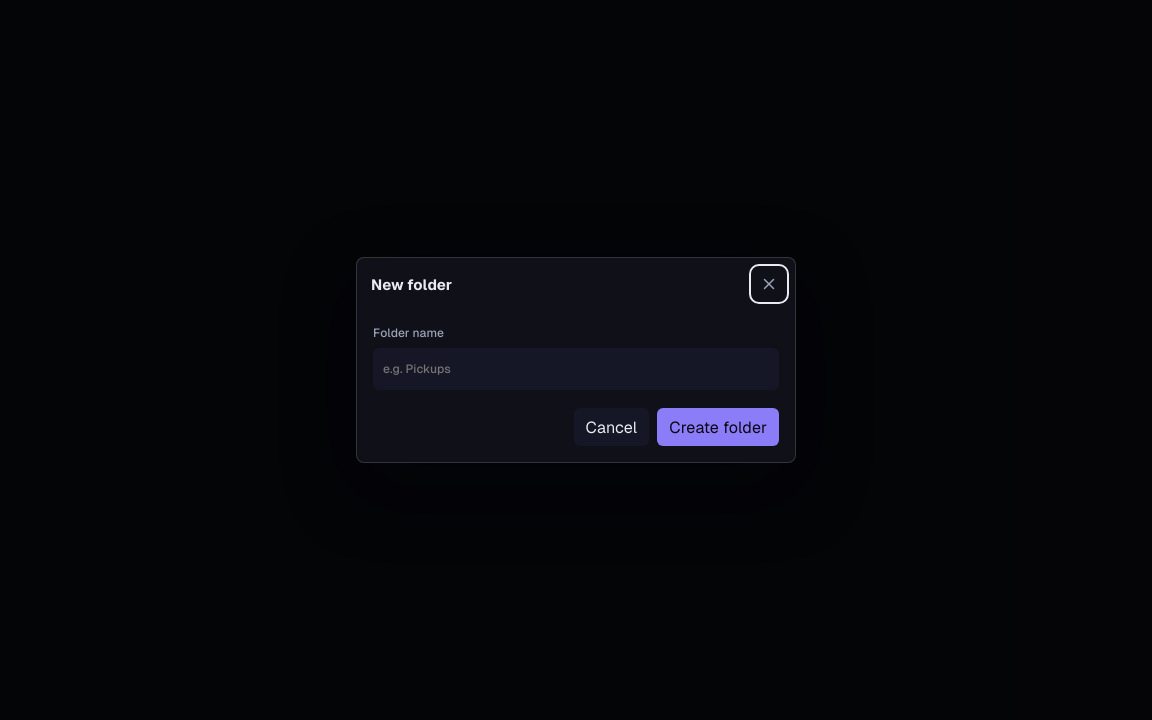
Test: project editor dialogs › validates a folder inside its project
The width and height of the screenshot is (1152, 720).
Type " finals " into the field labelled "Folder name" at (576, 369), box [373,348,779,390]
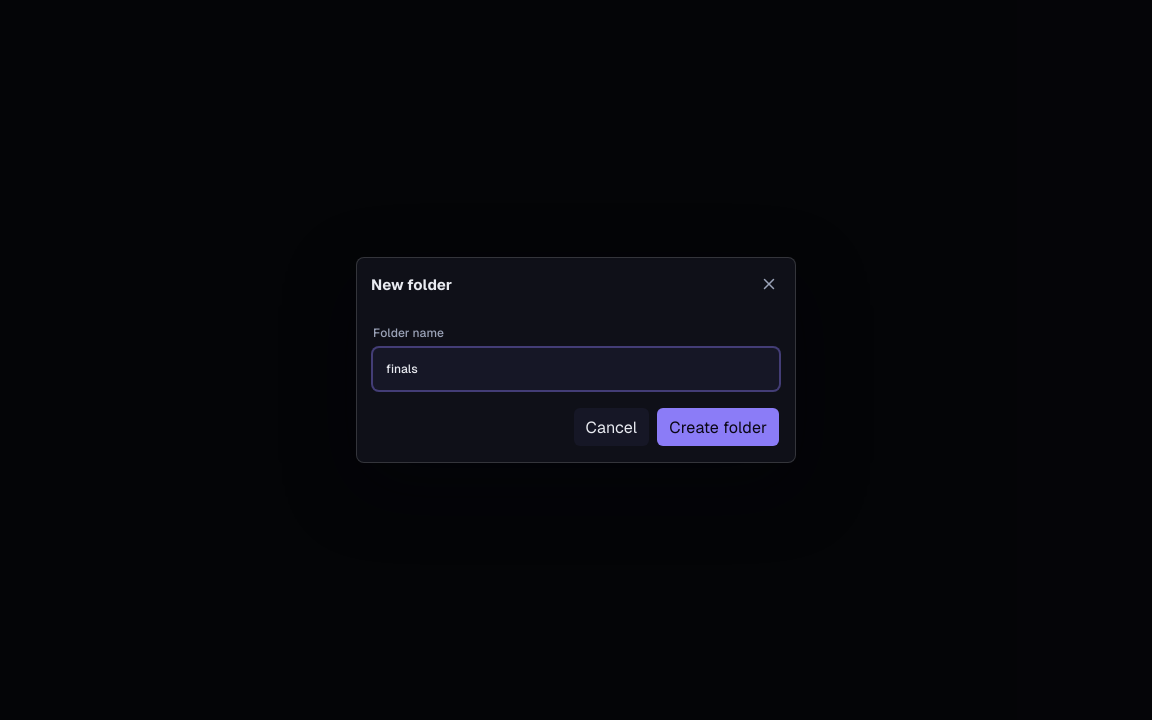
Click the button "Create folder" at (718, 427), box [657,408,779,446]
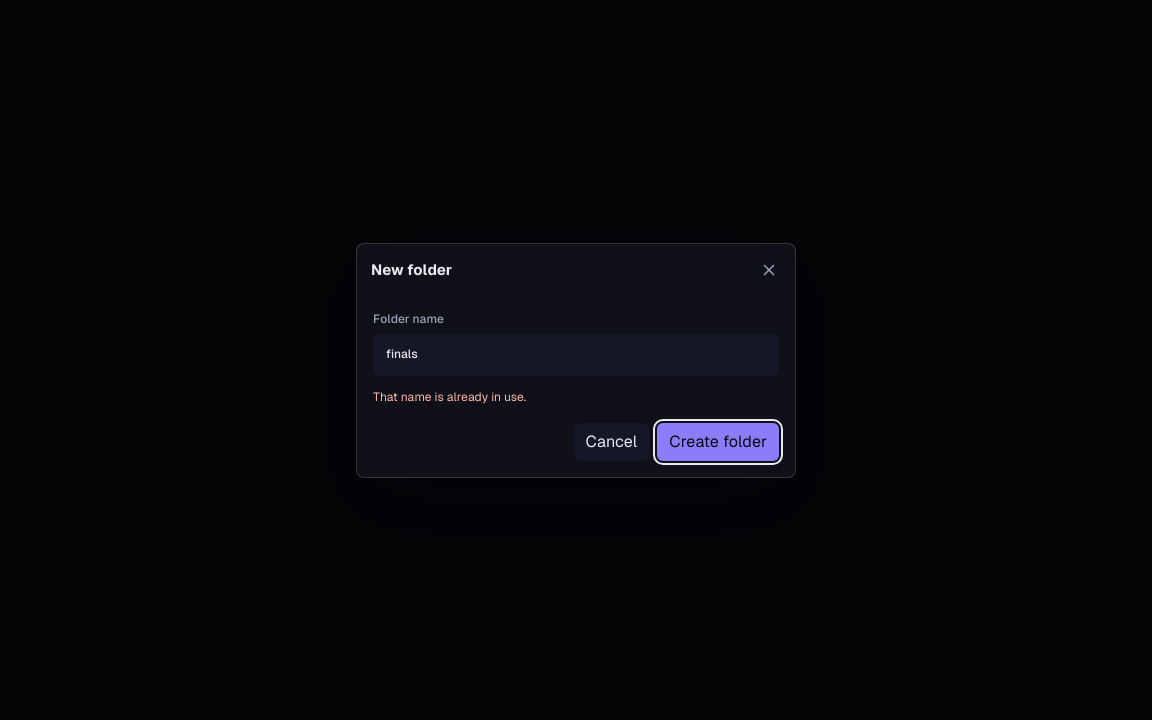
Expected: the text "That name is already in use." is shown, [373,390,526,404]
